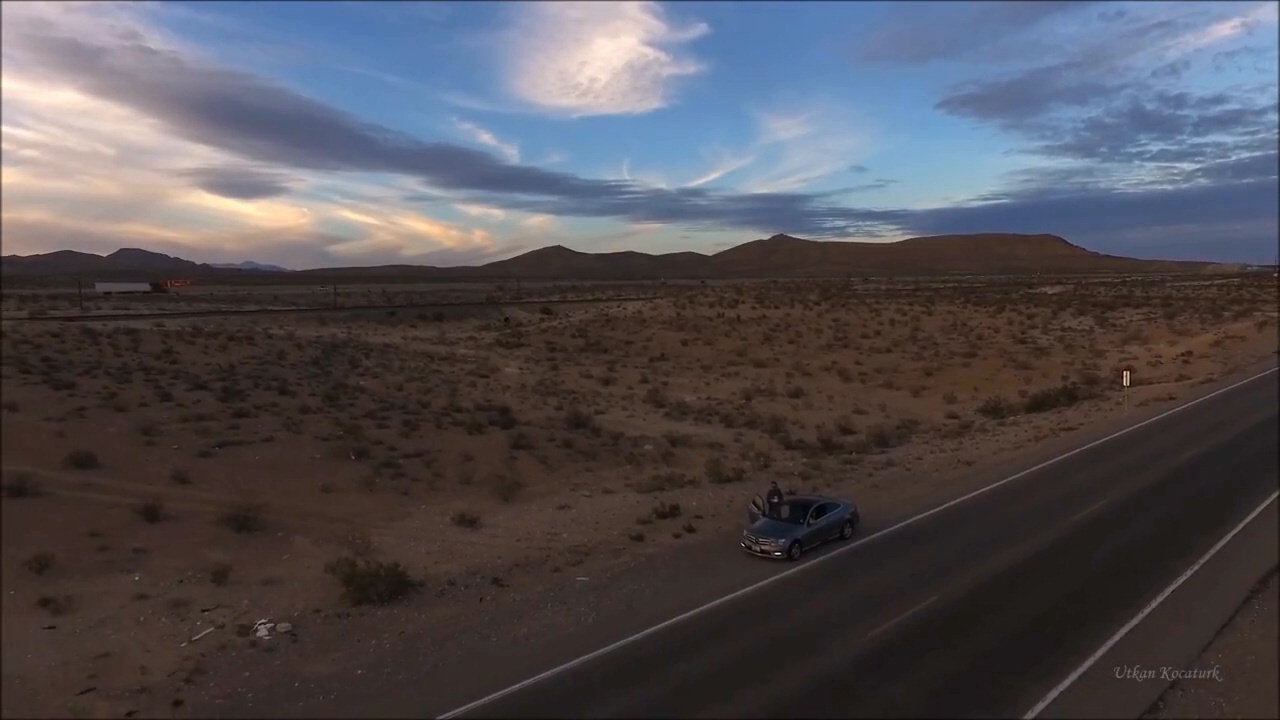araba: (733, 496, 861, 561)
insan: (764, 478, 787, 522)
